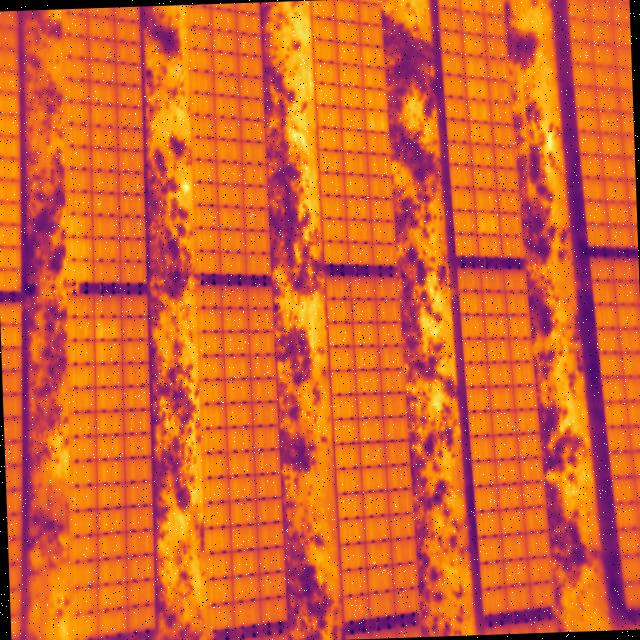Hotspot: (362, 107, 390, 134)
